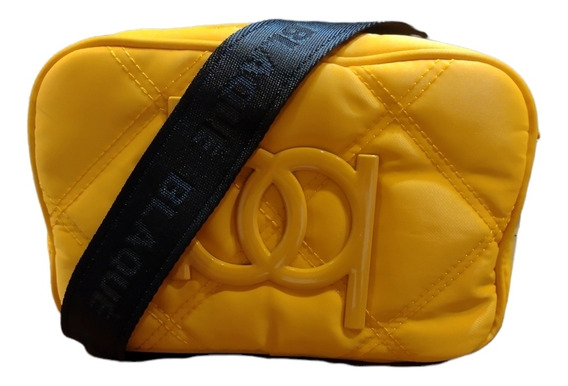cartera: (24, 17, 543, 367)
